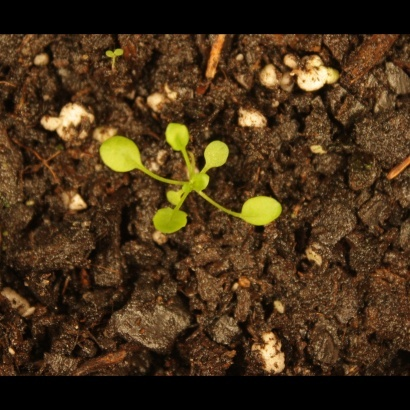leaf: (98, 131, 148, 177), (239, 191, 285, 229), (200, 133, 232, 175), (152, 206, 193, 237), (163, 120, 193, 155), (161, 182, 190, 210), (185, 170, 212, 198), (103, 45, 127, 68)
